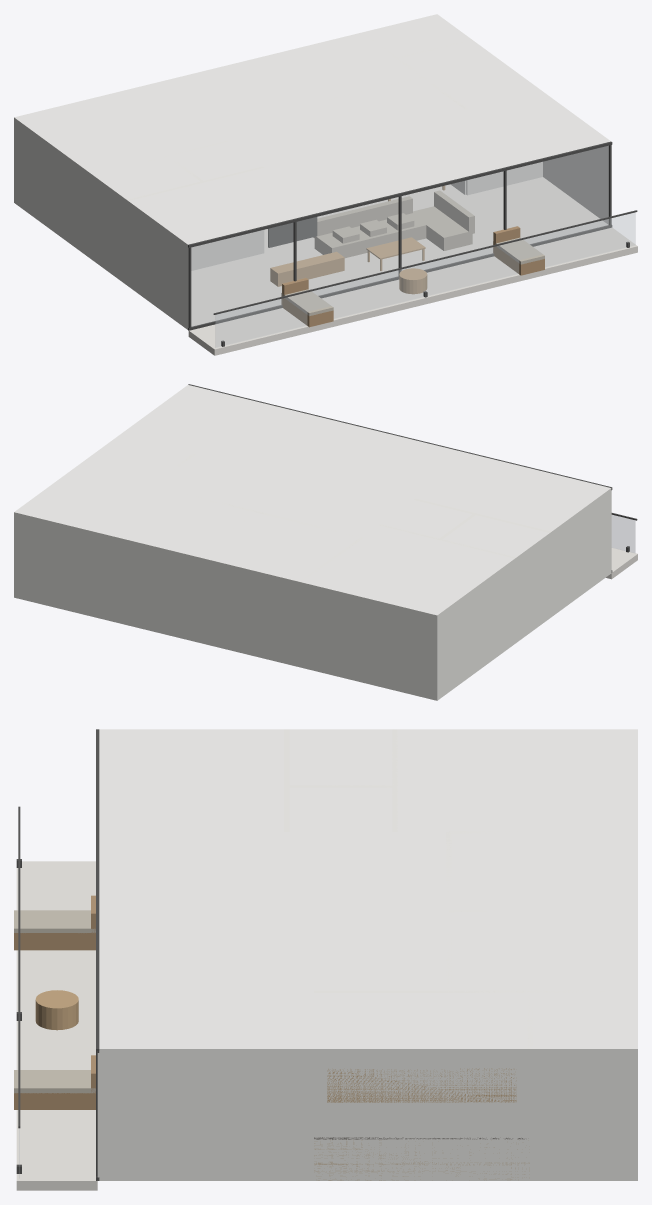
File: cabrera-casa.glb
3 views of the same model, one above another, from view 1: azimuth 30°, elevation 25°; view 2: azimuth 150°, elevation 25°; view 3: azimuth 270°, elevation 25° (orthographic). The views are drawn at different scales.
Parts seen in each view (by area): view 1: Techo, Piso, Pared_O, Balcon_Vidrio, Balcon_Losa, Vidrio_S_0, Vidrio_S_1, Vidrio_S_2, Vidrio_S_3, Balcon_Piso, Pared_E, Muro_Closet_S (+16 smaller); view 2: Techo, Pared_N, Pared_O, Balcon_Vidrio, Marco_H_T, Balcon_Losa; view 3: Techo, Pared_E, Balcon_Losa, Cocina_Alacena_E, Balcon_Piso, Lounge_Cojin_3.5, Lounge_Cojin_-3.5, Mesa_Balcon, Lounge_Base_-3.5, Lounge_Base_3.5, Marco_H_T, Balcon_Top (+1 smaller).
Part boxes in pixels (bbox=[...]): Techo: bbox=[14, 14, 610, 244]; Piso: bbox=[191, 177, 607, 326]; Pared_O: bbox=[14, 117, 188, 329]; Balcon_Vidrio: bbox=[215, 212, 635, 347]; Balcon_Losa: bbox=[188, 227, 637, 355]; Vidrio_S_0: bbox=[191, 223, 293, 326]; Vidrio_S_1: bbox=[297, 197, 398, 295]; Vidrio_S_2: bbox=[402, 171, 503, 269]; Vidrio_S_3: bbox=[507, 146, 608, 243]; Balcon_Piso: bbox=[190, 240, 636, 347]; Pared_E: bbox=[543, 145, 608, 224]; Muro_Closet_S: bbox=[126, 166, 264, 285]; Techo: bbox=[14, 385, 610, 615]; Pared_N: bbox=[14, 512, 437, 700]; Pared_O: bbox=[437, 488, 611, 700]; Balcon_Vidrio: bbox=[612, 515, 635, 553]; Marco_H_T: bbox=[188, 384, 612, 490]; Balcon_Losa: bbox=[606, 547, 637, 579]; Techo: bbox=[99, 729, 637, 1048]; Pared_E: bbox=[97, 1049, 637, 1180]; Balcon_Losa: bbox=[16, 861, 97, 1190]; Cocina_Alacena_E: bbox=[327, 1068, 516, 1102]; Balcon_Piso: bbox=[18, 861, 95, 1170]; Lounge_Cojin_3.5: bbox=[14, 1070, 95, 1093]; Lounge_Cojin_-3.5: bbox=[14, 910, 95, 932]; Mesa_Balcon: bbox=[35, 990, 78, 1030]; Lounge_Base_-3.5: bbox=[14, 933, 95, 950]; Lounge_Base_3.5: bbox=[14, 1093, 95, 1109]; Marco_H_T: bbox=[96, 729, 99, 1052]; Balcon_Top: bbox=[18, 806, 20, 1128].
Size of the model in its own units: 14 by 2.9 by 11.55.
